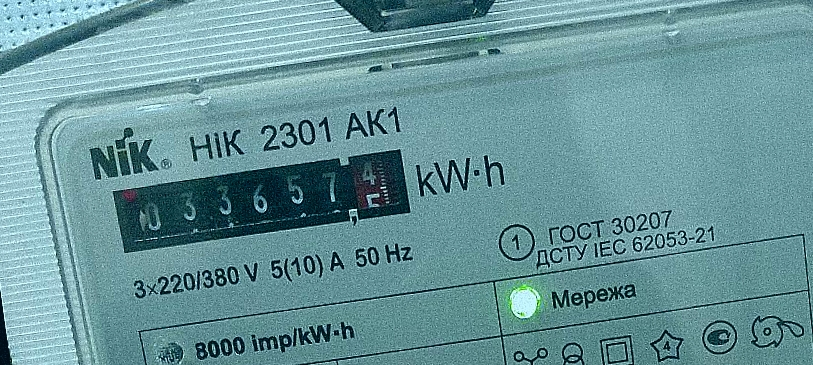0: (140, 196, 166, 236)
3: (177, 187, 200, 225), (212, 182, 235, 219)
4: (357, 157, 380, 189)
5: (281, 170, 308, 208)
6: (246, 180, 271, 217)
7: (318, 167, 341, 205)
screen: (99, 140, 420, 264)
